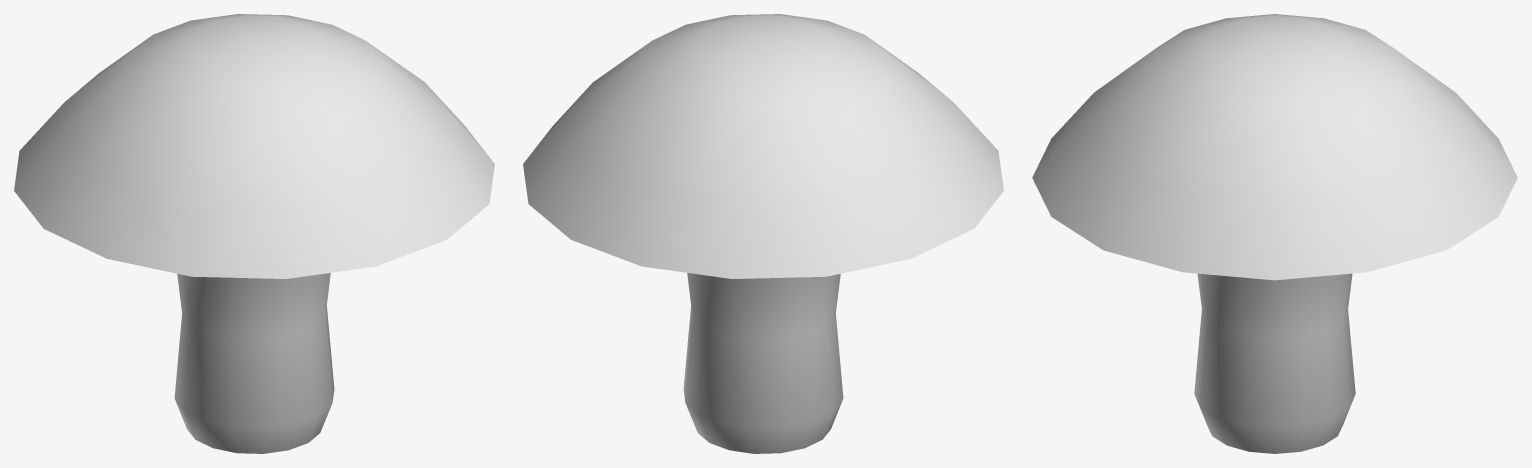
File: Mushroom.fbx
The picture shows the model from 3 angles, left to right: view 1: azimuth 30°, elevation 25°; view 2: azimuth 150°, elevation 25°; view 3: azimuth 270°, elevation 25°; orthographic projection.
Visible parts, largest first — view 1: Cube; view 2: Cube; view 3: Cube.
Boxes of the visible parts, left/top/right/bottom form: Cube: left=14, top=14, right=494, bottom=453; Cube: left=523, top=14, right=1003, bottom=453; Cube: left=1032, top=14, right=1517, bottom=453.
Bounding box in the file's own units: 273 × 273 × 240.
